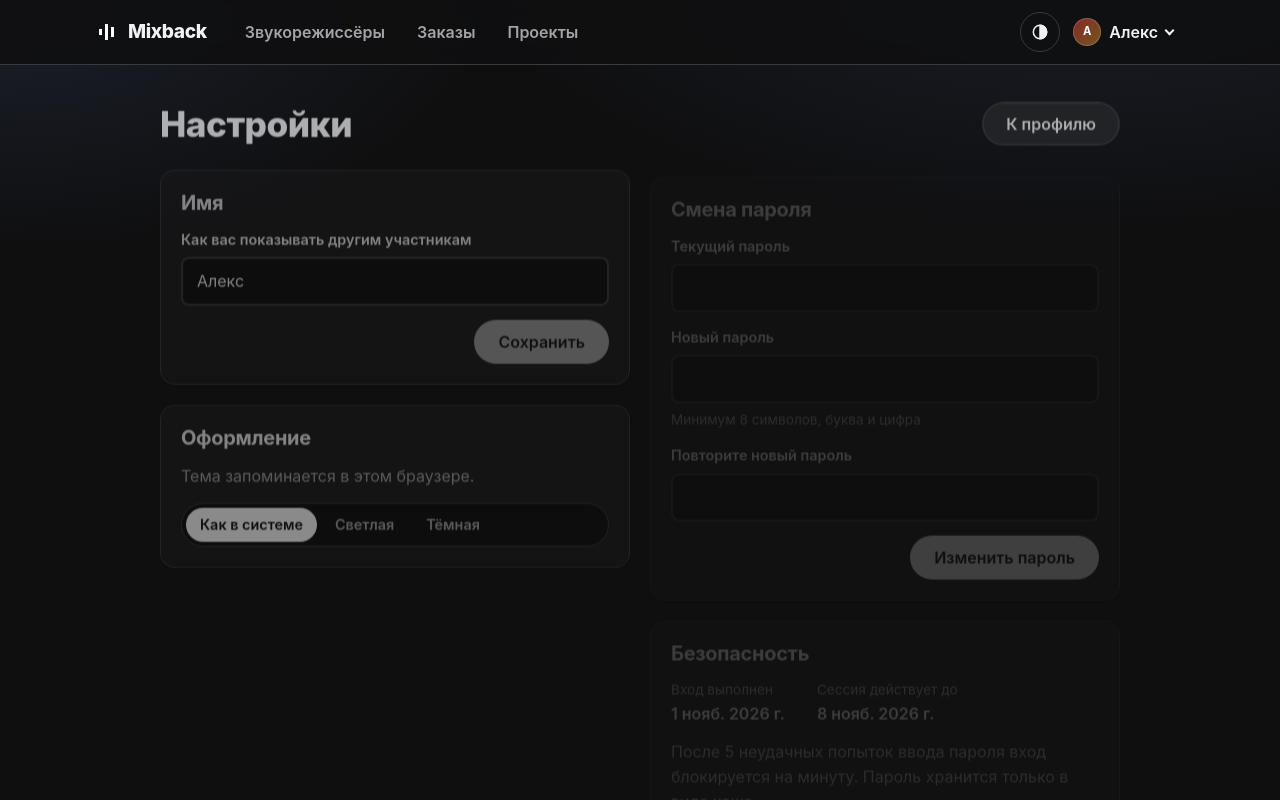
Test: ProfilePage › имя › смена имени обновляется в меню аккаунта
The image size is (1280, 800).
Expected: the heading "Настройки" is shown, [160,103,352,145]
Clear the field labelled "Как вас показывать другим участникам" at (395, 282), box [181,257,609,306]
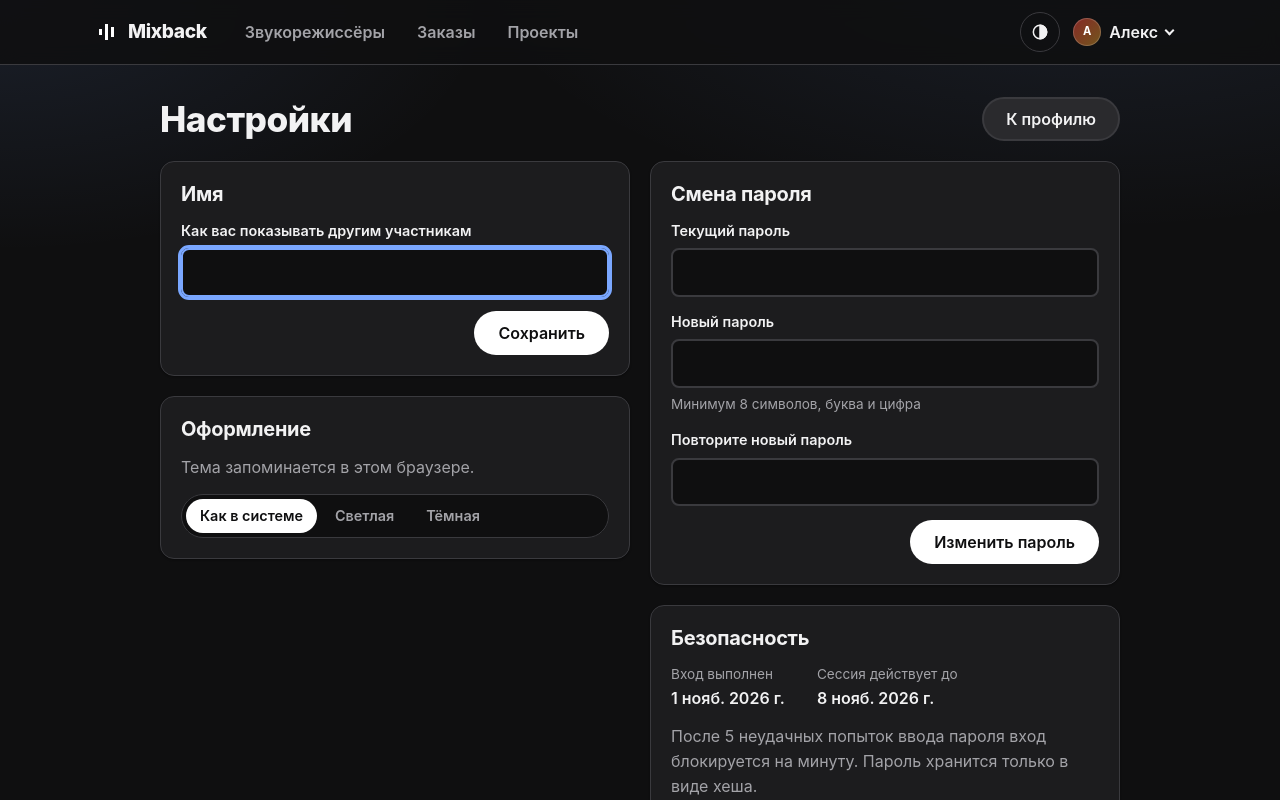
Type "Алекс Новый" into the field labelled "Как вас показывать другим участникам" at (395, 273), box [181,248,609,297]
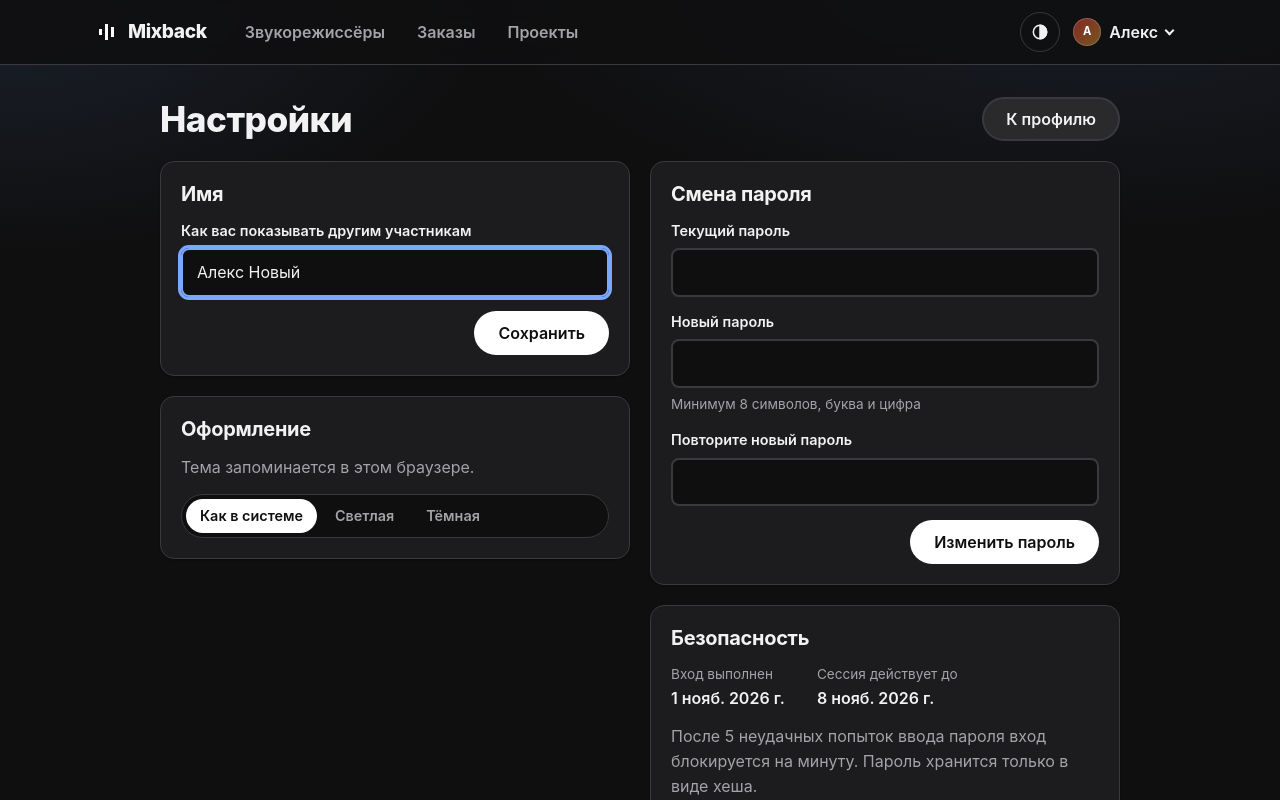
Click the button "Сохранить" at (542, 333), box [474,311,609,355]
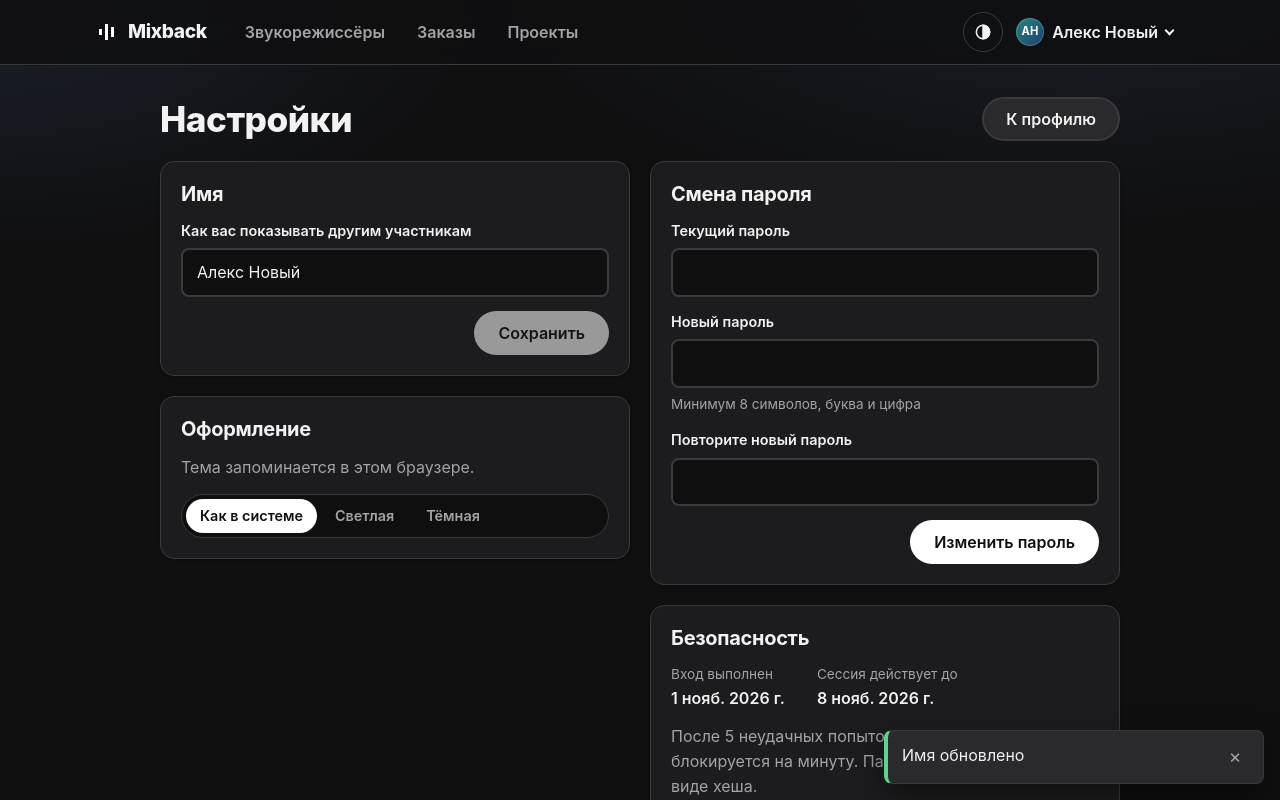
Expected: the text "Имя обновлено" is shown, [902,743,1024,768]
Expected: the button "АН Алекс Новый" is shown, [1011,13,1184,51]
